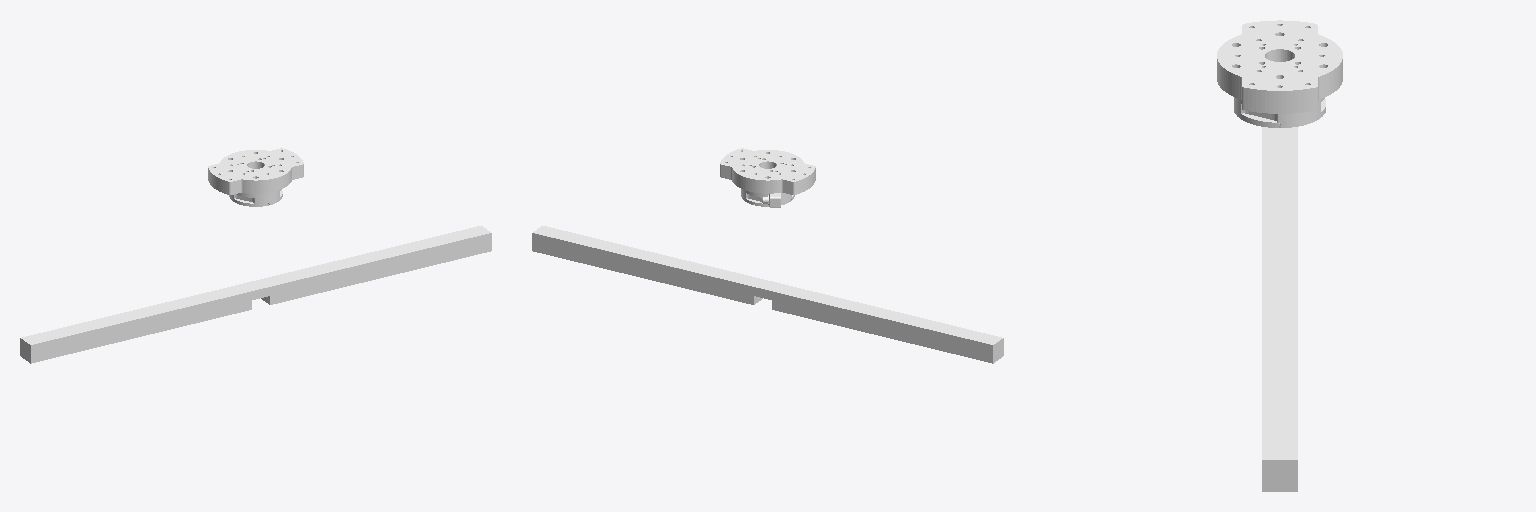
The robot description file, URDF, robot "tool":
<?xml version="1.0" ?>
<robot name="tool">

    <material name="white">
        <color rgba="1 1 1 0.9"/>
    </material>

    <link name="base">
        <inertial>
            <origin rpy="0 0 0" xyz="0 0 0"/>
            <mass value="0.0001"/>
            <inertia ixx="0.001" ixy="0" ixz="0" iyy="0.001" iyz="0" izz="0.001"/>
        </inertial>
    </link>

    <joint name="sensor" type="fixed">
        <parent link="base"/>
        <child link="sensor"/>
        <origin rpy="0 0 0" xyz="0 0 0"/>
        <dynamics damping="0.5"/>
    </joint>

    <link name="sensor">
        <inertial>
            <mass value="1.964"/>
            <origin rpy="0 0 0" xyz="0 0 0" />
            <inertia ixx="0.001" ixy="0" ixz="0" iyy="0.001" iyz="0" izz="0.001"/>
        </inertial>
        <visual>
            <geometry>
                <mesh filename="stl/tool_sensor_visual.stl" scale="0.001 0.001 0.001"/>
            </geometry>
            <material name="white"/>
        </visual>
        <collision>
            <geometry>
                <mesh filename="stl/tool_sensor_collision_1.stl" scale="0.001 0.001 0.001"/>
            </geometry>
        </collision>
        <collision>
            <geometry>
                <mesh filename="stl/tool_sensor_collision_2.stl" scale="0.001 0.001 0.001"/>
            </geometry>
        </collision>
        <collision>
            <geometry>
                <mesh filename="stl/tool_sensor_collision_3.stl" scale="0.001 0.001 0.001"/>
            </geometry>
        </collision>
    </link>

    <joint name="gripper" type="fixed">
        <parent link="sensor"/>
        <child link="gripper"/>
        <origin rpy="0 0 0" xyz="0 0 0"/>
        <dynamics damping="0.5"/>
    </joint>

    <link name="gripper">
        <inertial>
            <mass value="4.31"/>
            <origin rpy="0 0 0" xyz="0 0 0"/>
            <inertia ixx="0.01" ixy="0" ixz="0" iyy="0.01" iyz="0" izz="0.01"/>
        </inertial>
        <visual>
            <geometry>
                <mesh filename="stl/tool_gripper_visual.stl" scale="0.001 0.001 0.001"/>
            </geometry>
            <material name="white"/>
        </visual>
        <collision>
            <geometry>
                <mesh filename="stl/tool_gripper_collision_1.stl" scale="0.001 0.001 0.001"/>
            </geometry>
        </collision>
        <collision>
            <geometry>
                <mesh filename="stl/tool_gripper_collision_2.stl" scale="0.001 0.001 0.001"/>
            </geometry>
        </collision>
        <collision>
            <geometry>
                <mesh filename="stl/tool_gripper_collision_3.stl" scale="0.001 0.001 0.001"/>
            </geometry>
        </collision>
        <collision>
            <geometry>
                <mesh filename="stl/tool_gripper_collision_4.stl" scale="0.001 0.001 0.001"/>
            </geometry>
        </collision>
        <collision>
            <geometry>
                <mesh filename="stl/tool_gripper_collision_5.stl" scale="0.001 0.001 0.001"/>
            </geometry>
        </collision>
        <collision>
            <geometry>
                <mesh filename="stl/tool_gripper_collision_6.stl" scale="0.001 0.001 0.001"/>
            </geometry>
        </collision>
        <collision>
            <geometry>
                <mesh filename="stl/tool_gripper_collision_7.stl" scale="0.001 0.001 0.001"/>
            </geometry>
        </collision>
        <collision>
            <geometry>
                <mesh filename="stl/tool_gripper_collision_8.stl" scale="0.001 0.001 0.001"/>
            </geometry>
        </collision>
    </link>

    <joint name="member" type="fixed">
        <parent link="gripper"/>
        <child link="member"/>
        <origin rpy="0 0 0" xyz="0 0 -0.187"/>
        <dynamics damping="0.5"/>
    </joint>

    <link name="member">
        <inertial>
            <mass value="0.417"/>
            <origin rpy="0 0 0" xyz="0 0 0"/>
            <inertia ixx="0.001" ixy="0" ixz="0" iyy="0.001" iyz="0" izz="0.001"/>
        </inertial>
        <visual>
            <geometry>
                <mesh filename="stl/tool_lap_90deg_0mm_visual.stl" scale="0.001 0.001 0.001"/>
            </geometry>
            <material name="white"/>
        </visual>
        <collision>
            <geometry>
                <mesh filename="stl/tool_lap_90deg_0mm_collision_1.stl" scale="0.001 0.001 0.001"/>
            </geometry>
        </collision>
        <collision>
            <geometry>
                <mesh filename="stl/tool_lap_90deg_0mm_collision_2.stl" scale="0.001 0.001 0.001"/>
            </geometry>
        </collision>
        <collision>
            <geometry>
                <mesh filename="stl/tool_lap_90deg_0mm_collision_3.stl" scale="0.001 0.001 0.001"/>
            </geometry>
        </collision>
    </link>

</robot>

--- Facts derived from the render (not from the file) ---
Views: 3 orthographic renders of the robot side by side, from view 1: azimuth 30°, elevation 25°; view 2: azimuth 150°, elevation 25°; view 3: azimuth 270°, elevation 25°.
Model tool with 4 links and 3 joints (3 fixed), rooted at base, posed every joint at zero.
Links seen in each view (by area): view 1: member, sensor; view 2: member, sensor; view 3: member, sensor.
Boxes of the visible links, x1,y1,x2,y2 form: member: (20,226,491,363); sensor: (208,148,303,206); member: (532,226,1003,363); sensor: (720,148,815,207); member: (1262,127,1297,491); sensor: (1217,20,1342,127).
Bounding box of the posed robot: 0.9144 × 0.125 × 0.2628 m (x, y, z).
Meshes: 3 distinct files referenced, 2 mesh visuals loaded (2 binary STL); not drawn: 1 (reference not matched to a file when rendering).